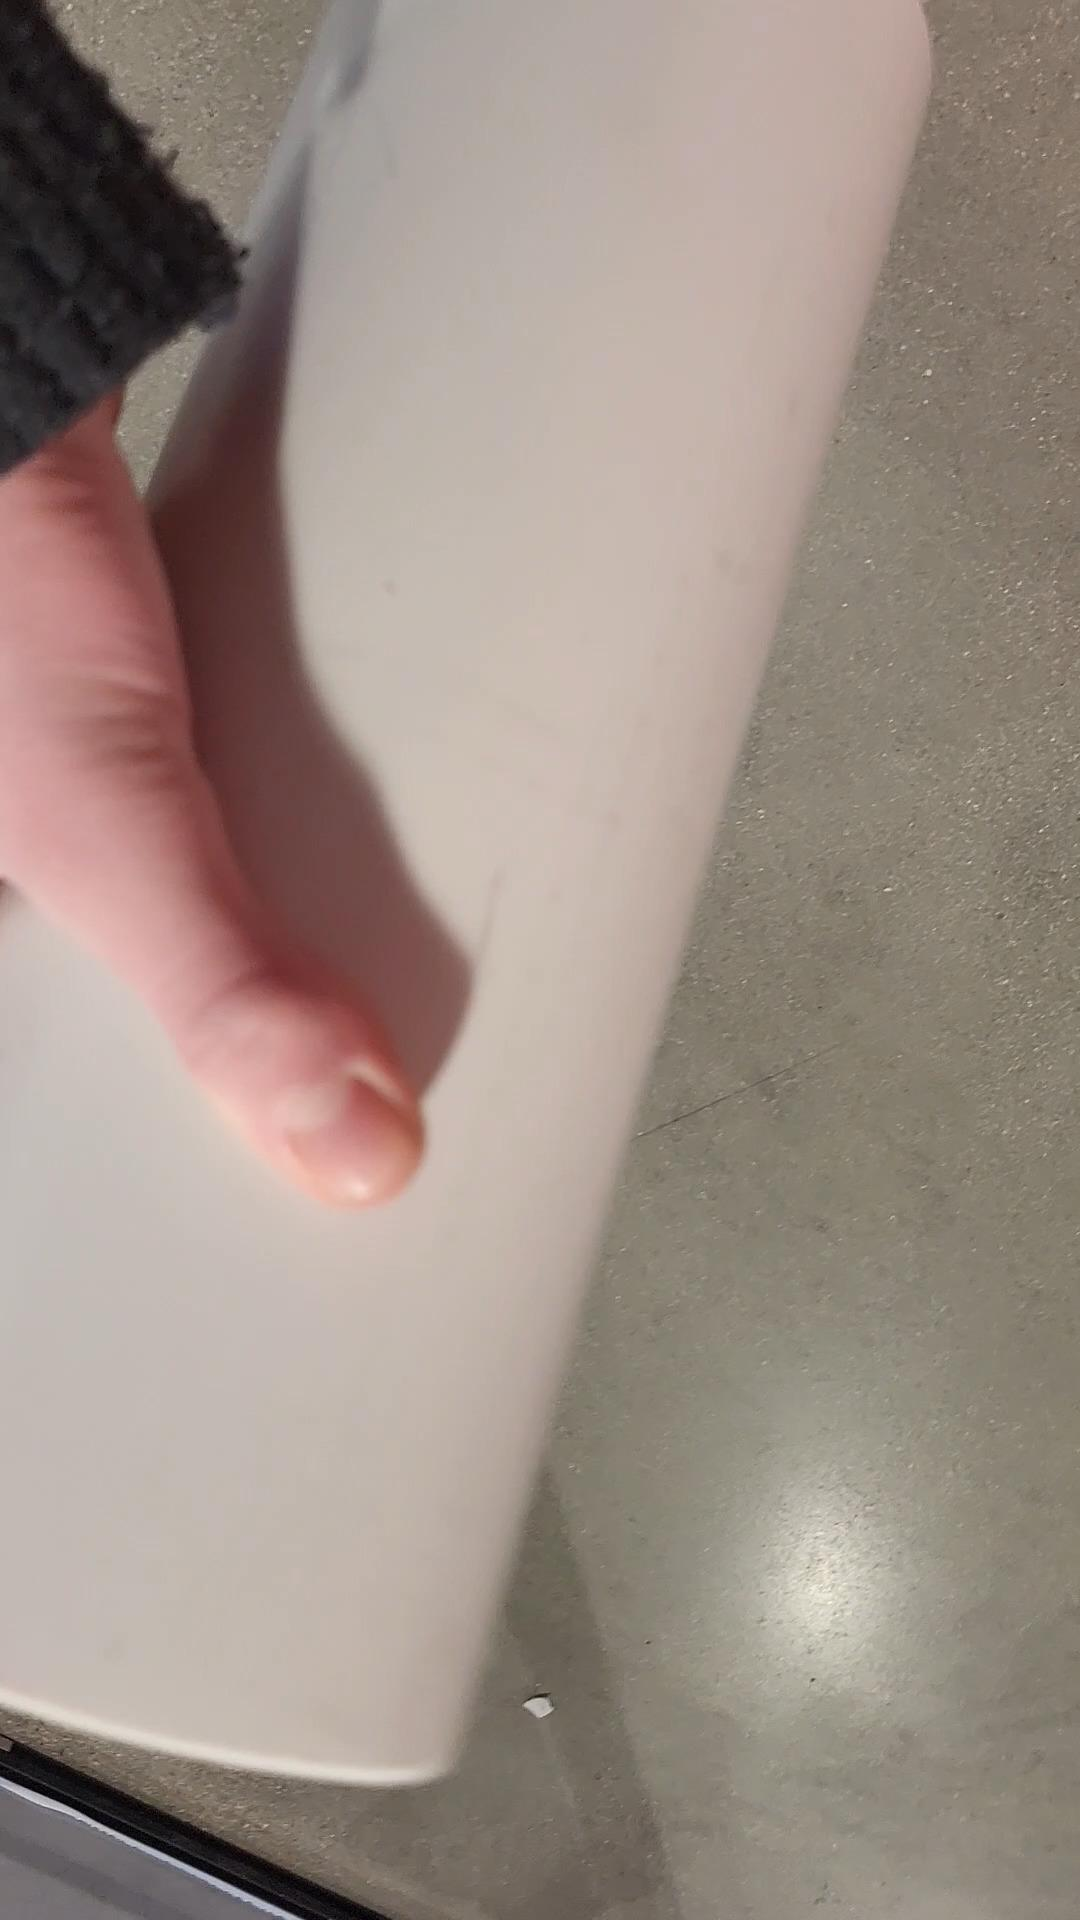coral: (0, 0, 960, 1810)
